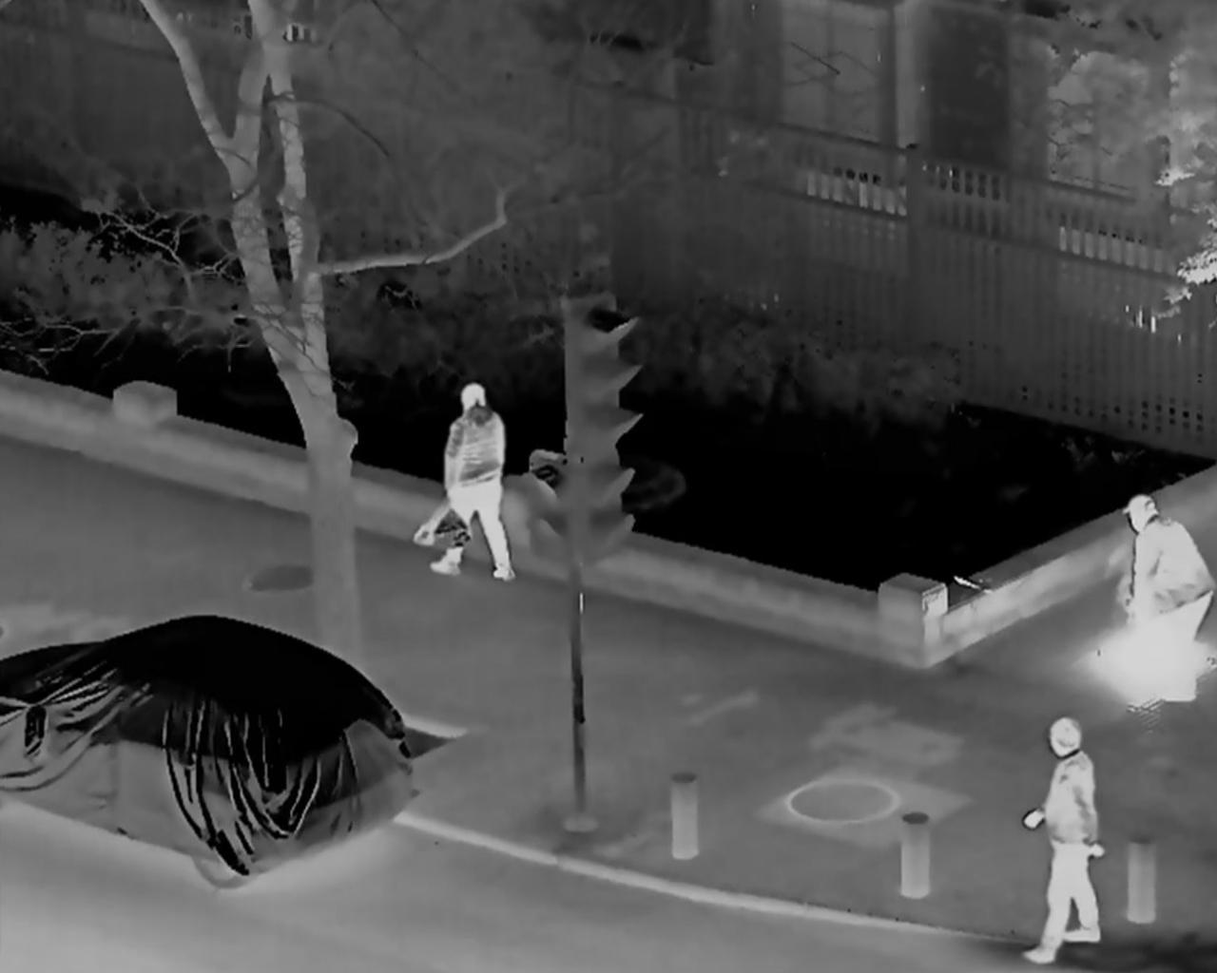person: (1020, 714, 1113, 960), (1118, 495, 1210, 706), (428, 383, 516, 582)
